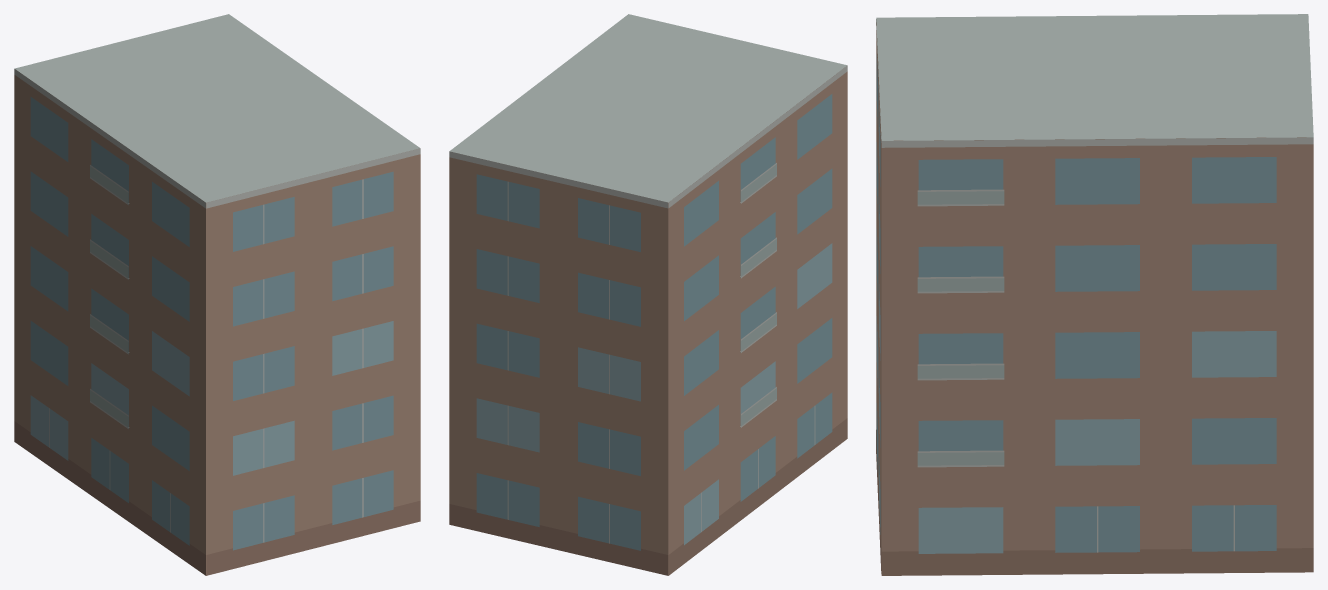
The model's file is survey-upis-32819516.glb.
The picture shows the model from 3 angles, left to right: view 1: azimuth 30°, elevation 25°; view 2: azimuth 150°, elevation 25°; view 3: azimuth 270°, elevation 25°; orthographic projection. The views are drawn at different scales.
Visible parts, largest first — view 1: survey-upis-32819516.tmp; view 2: survey-upis-32819516.tmp; view 3: survey-upis-32819516.tmp.
Boxes of the visible parts, x1=… form: survey-upis-32819516.tmp: x1=14, y1=14, x2=420, y2=575; survey-upis-32819516.tmp: x1=449, y1=14, x2=847, y2=575; survey-upis-32819516.tmp: x1=876, y1=14, x2=1313, y2=575.
Size of the model in its own units: 9.56 by 15.25 by 13.91.
